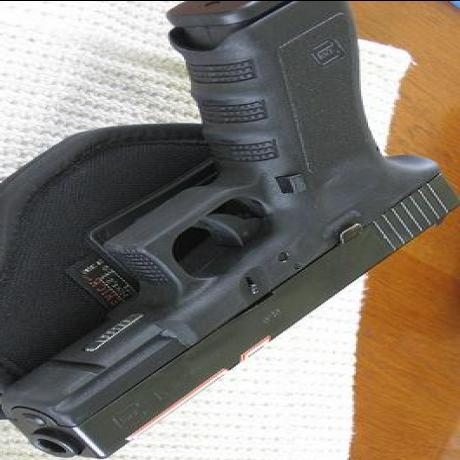weapon: (3, 0, 452, 453)
